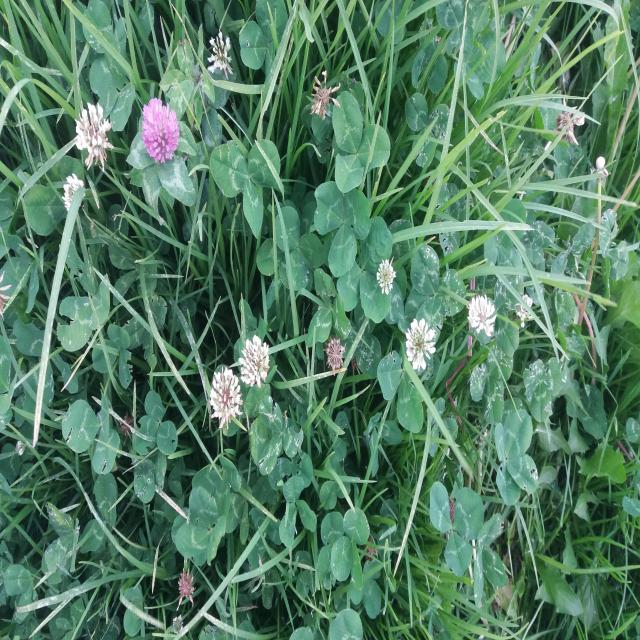Four Leaf Clover: (494, 410, 538, 506), (481, 361, 522, 411), (371, 388, 413, 436), (562, 516, 596, 572), (597, 398, 626, 447), (303, 284, 332, 323)
